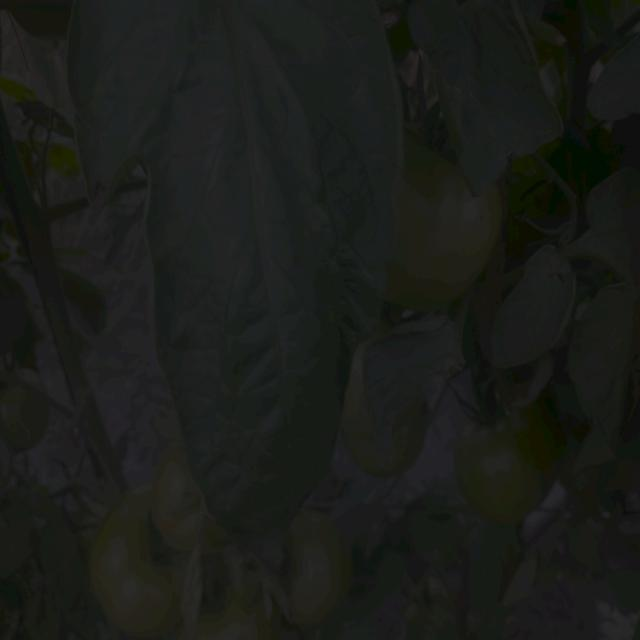tomato: (396, 152, 502, 309), (95, 491, 186, 636), (458, 403, 557, 524), (276, 515, 355, 626), (158, 462, 232, 553), (196, 594, 296, 640), (1, 369, 52, 448), (342, 380, 382, 479)
